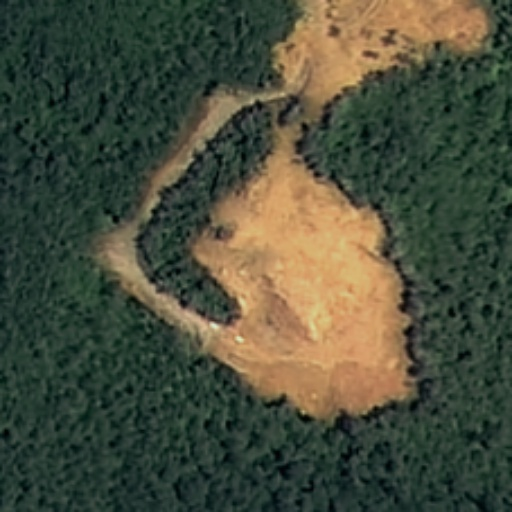landslide: (113, 5, 495, 421)
